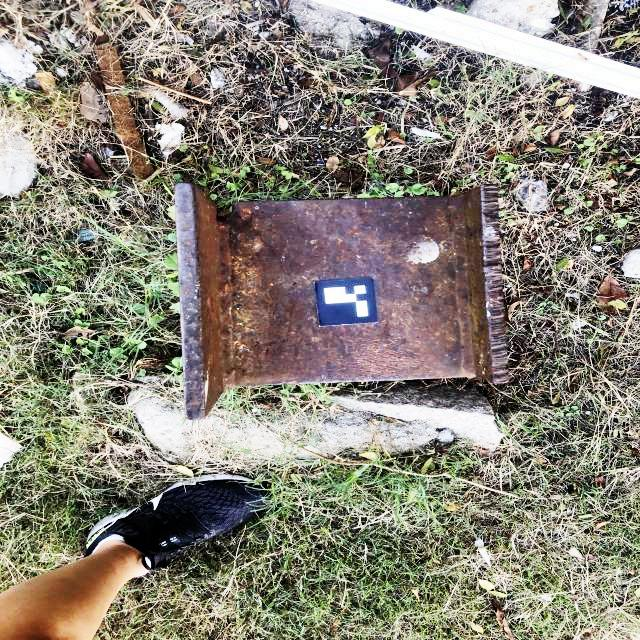Corrosion: (174, 182, 509, 421)
